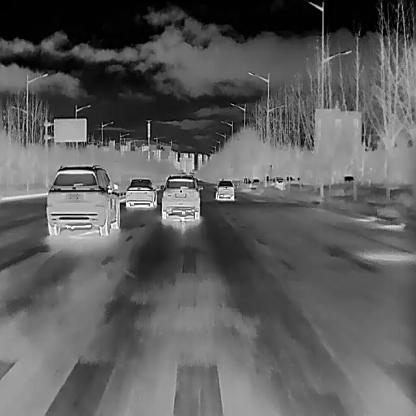car: (45, 162, 120, 235), (159, 174, 203, 220), (126, 178, 159, 208), (215, 180, 234, 201), (270, 177, 284, 190), (249, 178, 259, 188)
